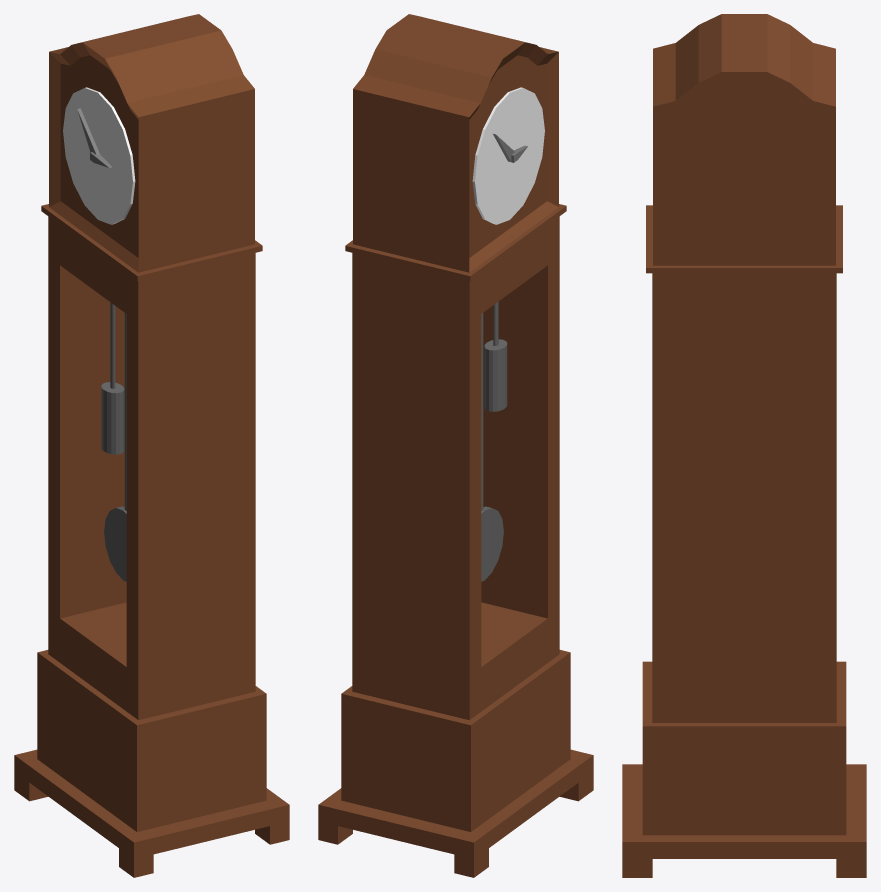
Rendered from Clock.obj.
3 renders of one model, left to right at view 1: azimuth 30°, elevation 25°; view 2: azimuth 150°, elevation 25°; view 3: azimuth 270°, elevation 25°, orthographic. The views are drawn at different scales.
Parts seen in each view (by area): view 1: Cube_Cube.002; view 2: Cube_Cube.002; view 3: Cube_Cube.002.
Part boxes in pixels (<box>): Cube_Cube.002: <box>14,14,289,877</box>; Cube_Cube.002: <box>318,14,593,877</box>; Cube_Cube.002: <box>622,14,866,877</box>.
Size of the model in its own units: 0.5176 by 2.48 by 0.6898.
1 material, 1 textured.
